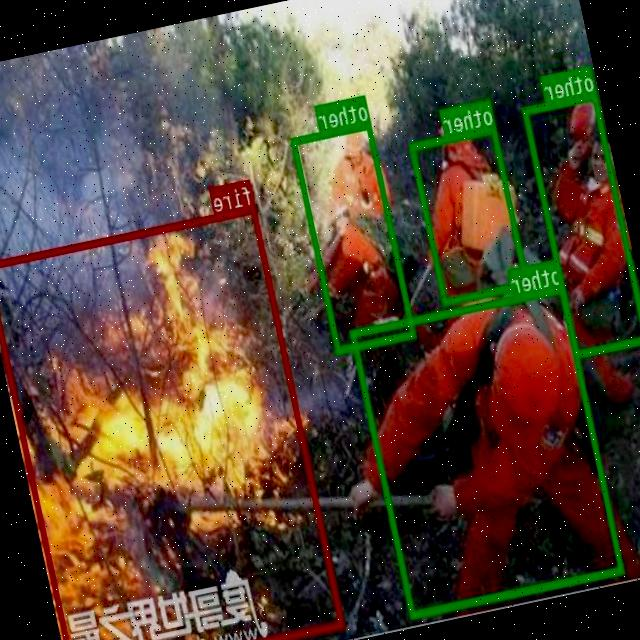fire: (0, 203, 345, 640)
